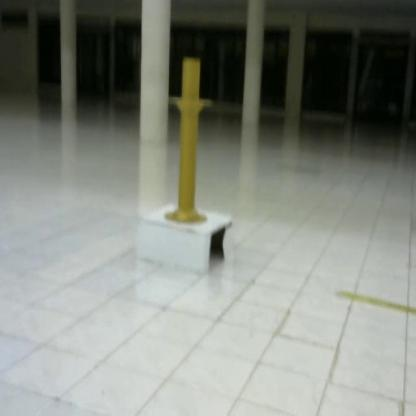pole: (160, 55, 216, 232)
